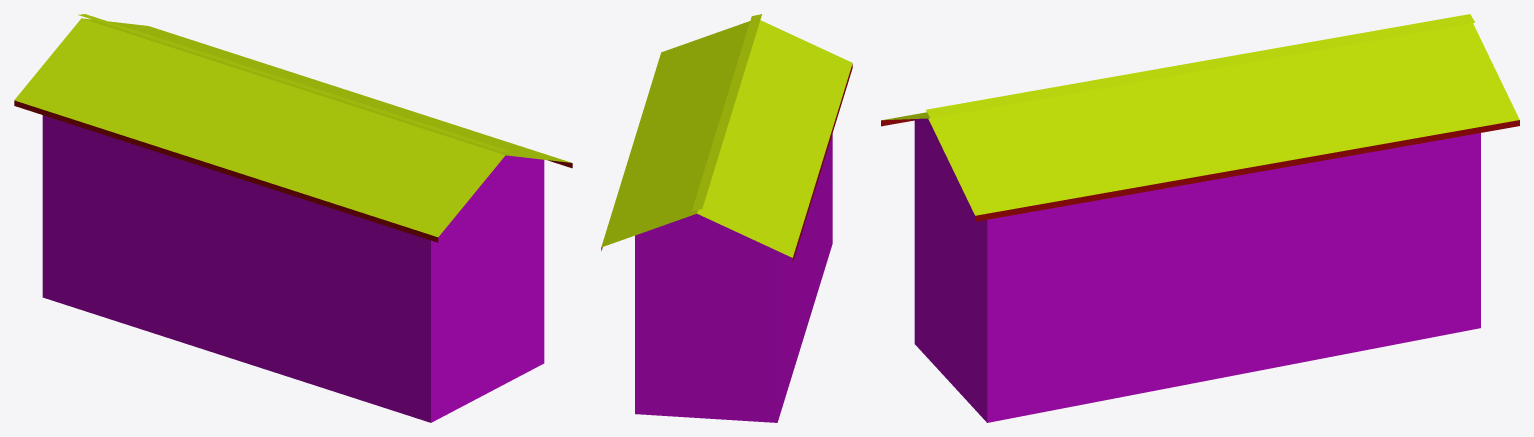
Rendered from sdt_72.glb.
3 renders of one model, left to right at view 1: azimuth 30°, elevation 25°; view 2: azimuth 150°, elevation 25°; view 3: azimuth 270°, elevation 25°, orthographic. The views are drawn at different scales.
Parts seen in each view (by area): view 1: sdt_72; view 2: sdt_72; view 3: sdt_72.
Boxes of the visible parts, x1,y1,x2,y2 form: sdt_72: (14, 14, 572, 422); sdt_72: (601, 14, 852, 422); sdt_72: (881, 14, 1519, 422).
Size of the model in its own units: 8.1 by 5.43 by 11.43.
